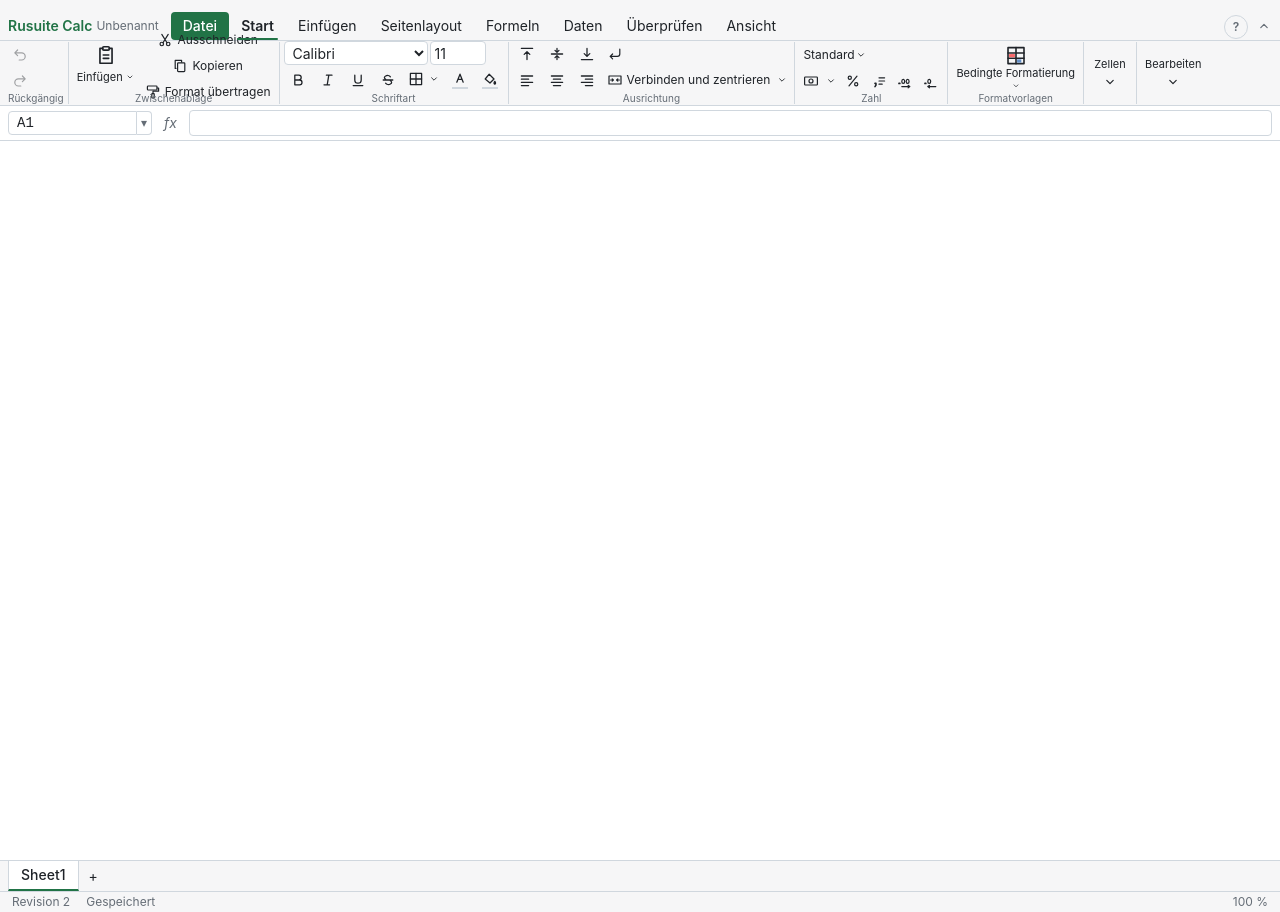
it: Calc ribbon in German › shows the German tabs, groups, tooltips (Strg) and status bar; switching back re-renders in English
The width and height of the screenshot is (1280, 912).
Expected: the tab "Sheet1" is shown, [8,861,78,891]
Expected: the element "Zwischenablage" is shown, [69,42,280,104]
Click the tab "Ansicht" at (751, 26), box [714,12,788,40]
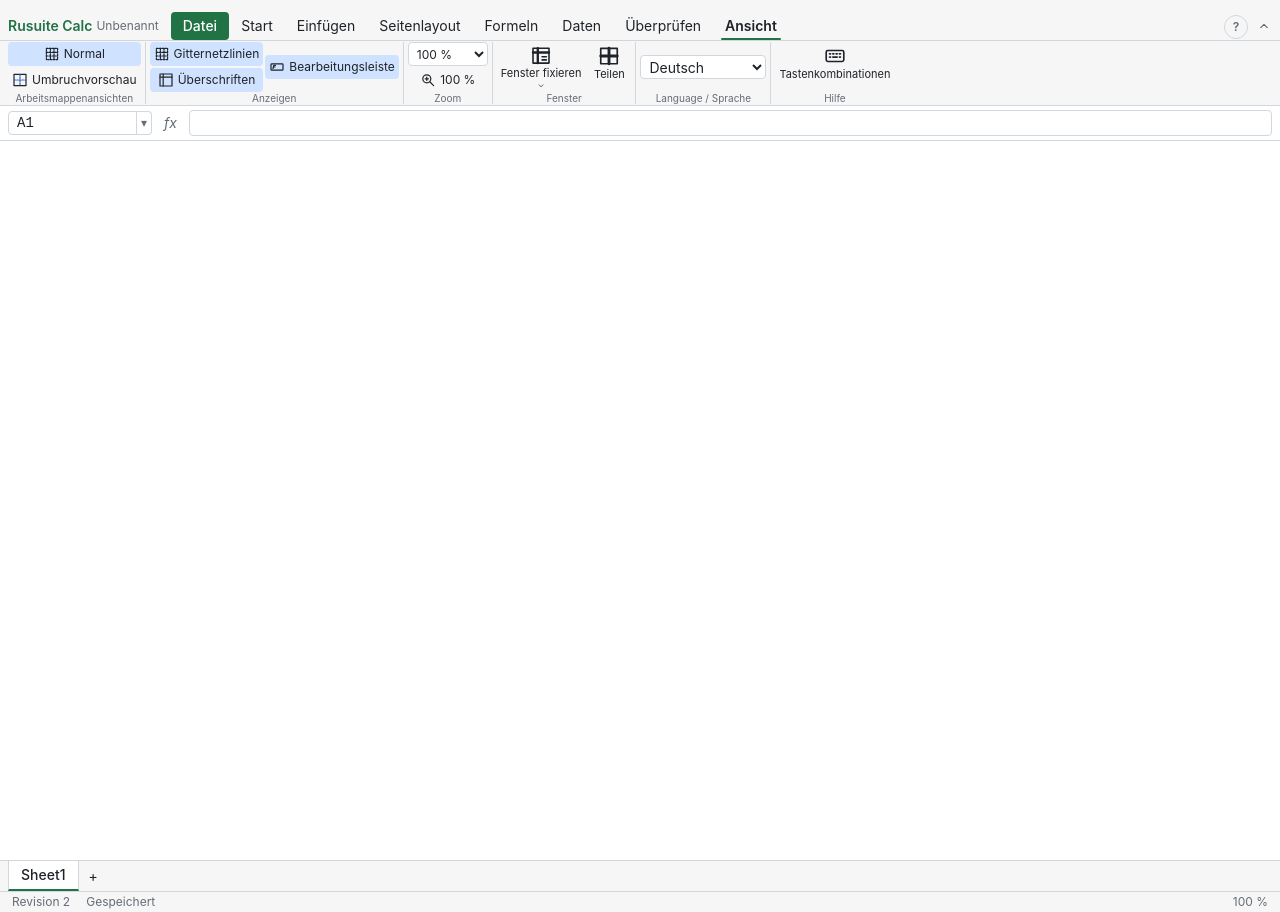
Select "English" in the dropdown named "Language / Sprache" at (703, 67), box [640,55,766,79]
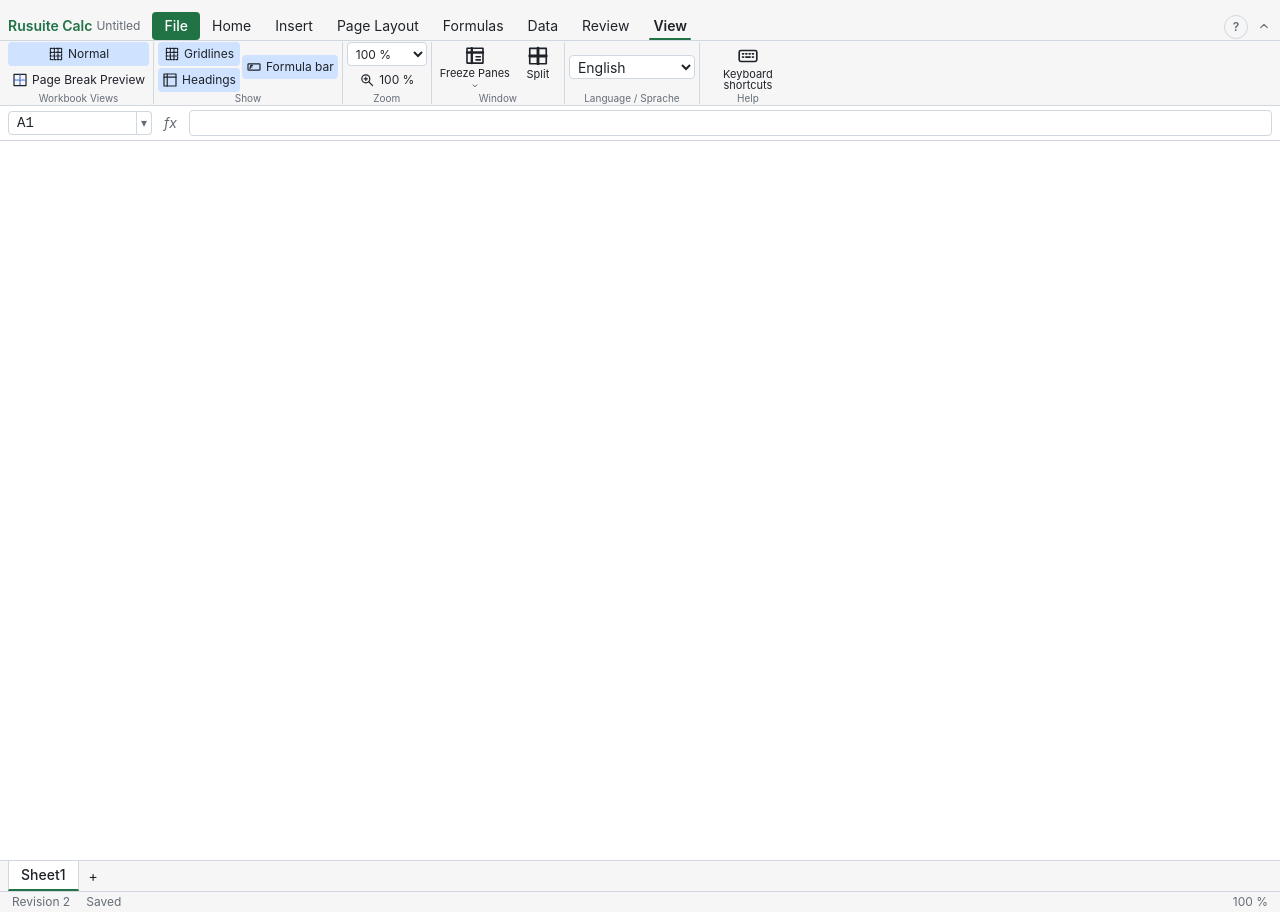
Expected: the element with test id "status-bar" shows "Saved", [86,894,121,909]
